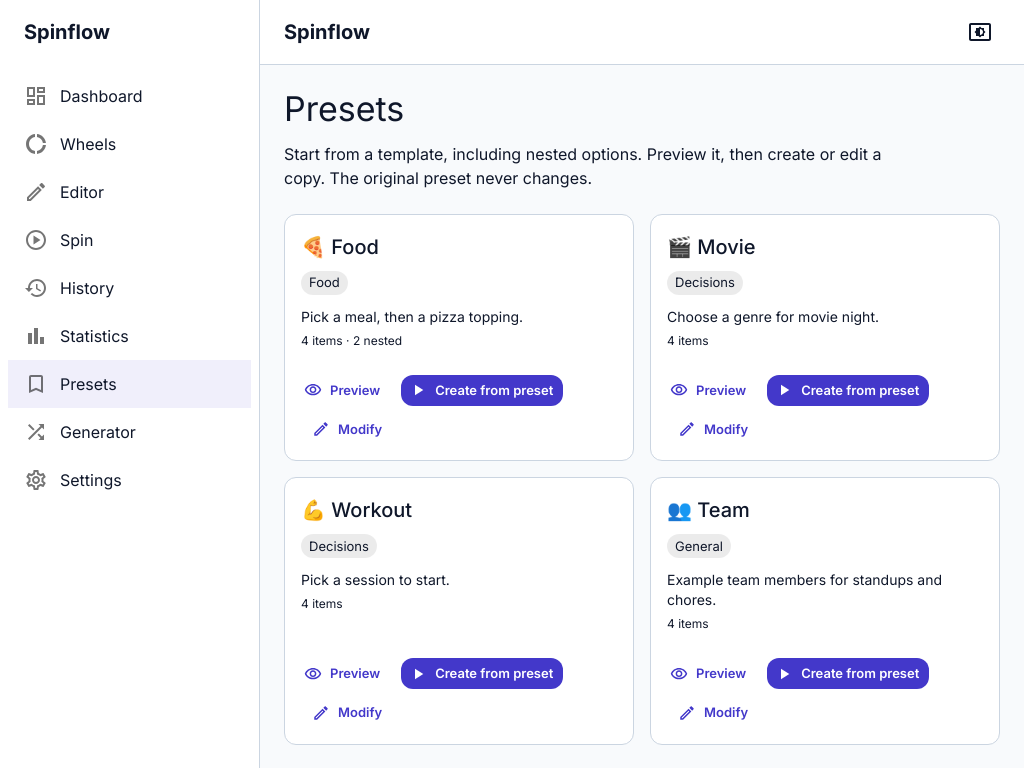
Test: PresetsScreen › creates a copy from a preset and opens spin without changing the catalog
Click the button with aria-label "Create Food from preset".
click(482, 390)  # box [401, 375, 563, 406]
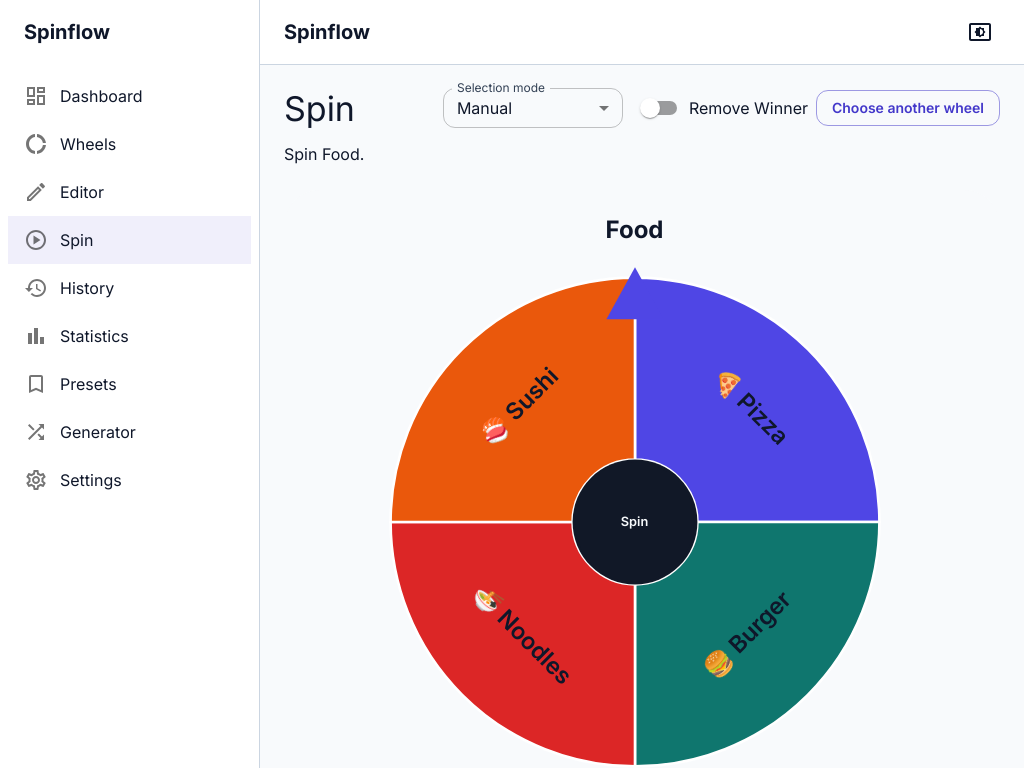
Check: the heading "Food" is shown, box [606, 214, 664, 246]
Check: the heading "Spin" is shown, box [284, 88, 364, 130]
